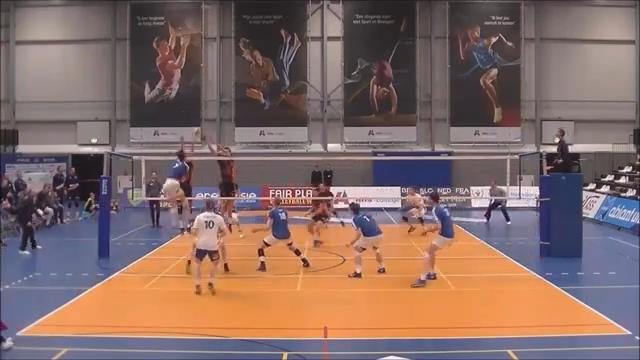Attack: (158, 136, 195, 237)
Block: (201, 130, 244, 236), (174, 131, 196, 233)
Player: (252, 197, 309, 271), (412, 192, 453, 287), (192, 200, 228, 294), (347, 202, 385, 277), (307, 189, 330, 246), (402, 188, 426, 235), (317, 184, 344, 225)
ball: (191, 125, 201, 137)
